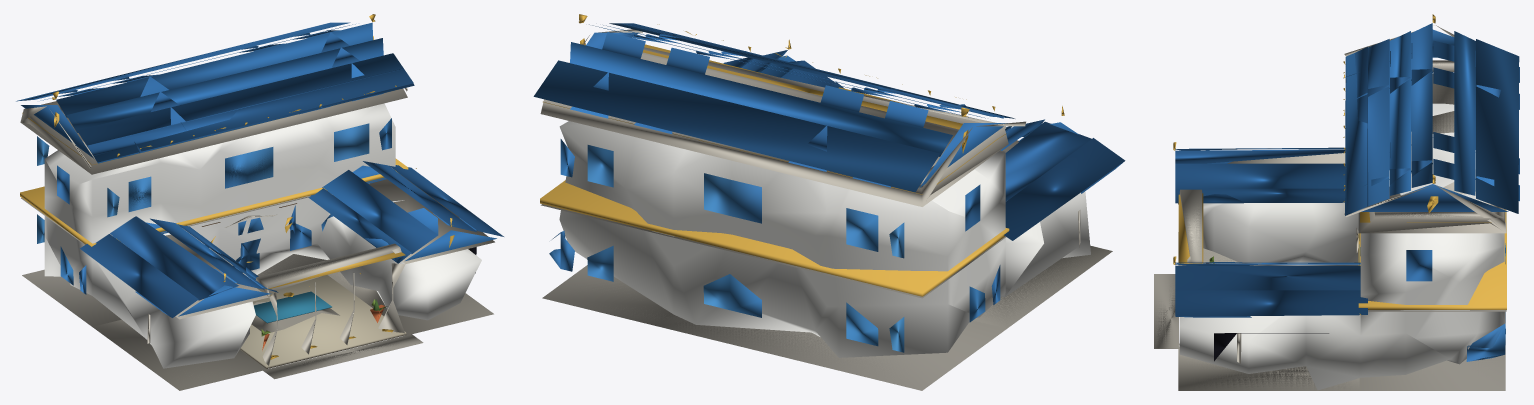
The model's file is home_grand-villa_t4.glb.
The picture shows the model from 3 angles, left to right: view 1: azimuth 30°, elevation 25°; view 2: azimuth 150°, elevation 25°; view 3: azimuth 270°, elevation 25°; orthographic projection. The views are drawn at different scales.
Parts seen in each view (by area): view 1: hall, marble, azure1, azure0, azure2, azure_wood, paving, paint_azure, gold, step, water.001; view 2: hall, marble, azure1, azure2, azure_wood, gold, azure0, paint_azure; view 3: hall, azure1, marble, azure0, azure2, gold, paint_azure, azure_wood, step, dark.
Part boxes in pixels (box(x1,y1,x2,y2)): hall: box(44, 103, 481, 368); marble: box(20, 87, 494, 390); azure1: box(16, 22, 503, 317); azure0: box(56, 22, 477, 300); azure2: box(40, 24, 438, 289); azure_wood: box(37, 118, 391, 294); paving: box(240, 275, 406, 368); paint_azure: box(21, 30, 496, 316); gold: box(20, 14, 454, 359); step: box(251, 301, 423, 379); water.001: box(254, 291, 331, 323); hall: box(559, 121, 1090, 357); marble: box(540, 29, 1112, 390); azure1: box(533, 23, 1125, 240); azure2: box(570, 23, 1044, 156); azure_wood: box(549, 139, 1000, 352); gold: box(540, 14, 1064, 296); azure0: box(589, 24, 1091, 201); paint_azure: box(586, 32, 1079, 188); hall: box(1179, 103, 1504, 390); azure1: box(1175, 39, 1519, 317); marble: box(1178, 25, 1506, 390); azure0: box(1175, 23, 1519, 290); azure2: box(1175, 31, 1519, 265); gold: box(1173, 14, 1506, 314); paint_azure: box(1361, 29, 1508, 211); azure_wood: box(1359, 233, 1505, 361); step: box(1154, 274, 1178, 348); dark: box(1214, 333, 1328, 361).
Size of the model in its own units: 13.91 by 8.28 by 12.71.
